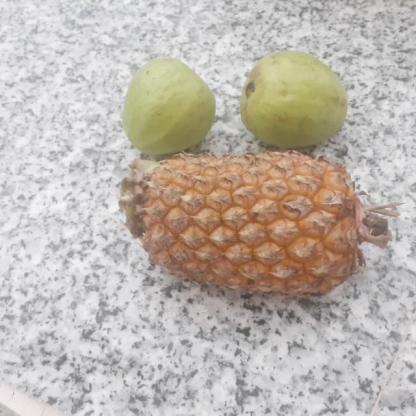guava: (238, 52, 345, 145), (118, 60, 217, 158)
pineapple: (116, 148, 376, 298)
